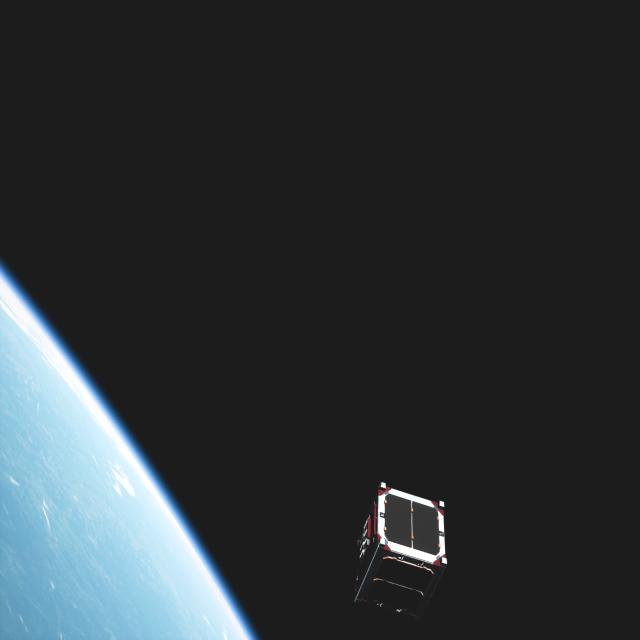medium_debris: (348, 481, 452, 622)
